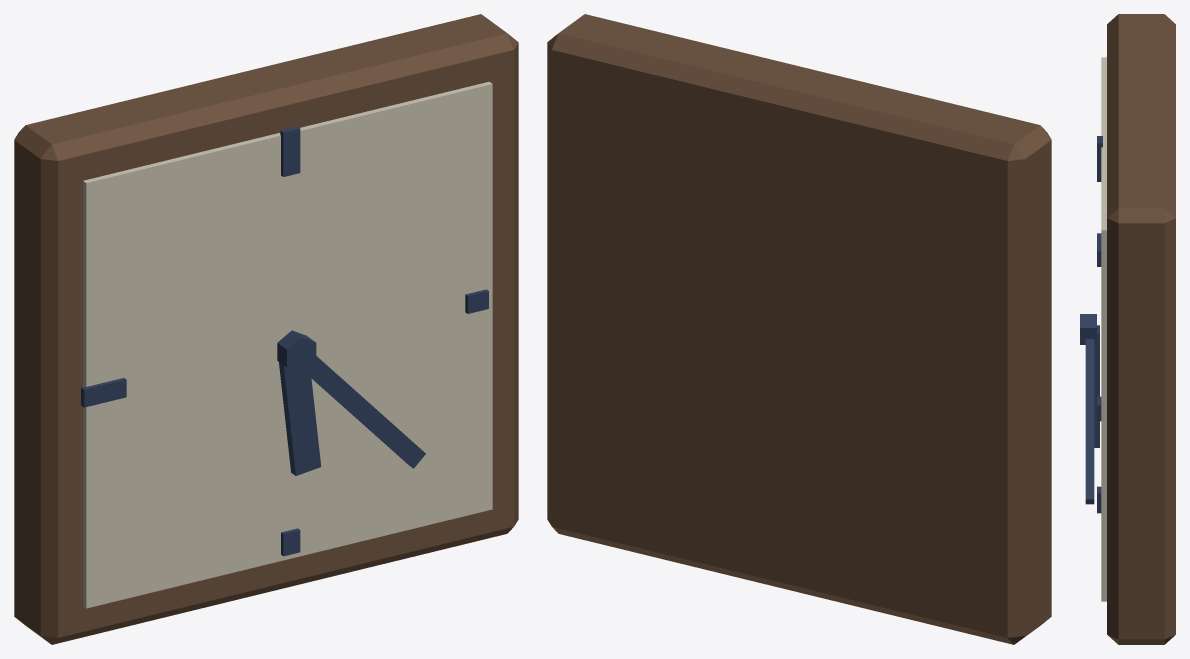
File: wall-clock-01.glb
The picture shows the model from 3 angles, left to right: view 1: azimuth 30°, elevation 25°; view 2: azimuth 150°, elevation 25°; view 3: azimuth 270°, elevation 25°; orthographic projection. The views are drawn at different scales.
Visible parts, largest first — view 1: wall_clock_01; view 2: wall_clock_01; view 3: wall_clock_01.
Part boxes in pixels (x1,y1,x2,y2): wall_clock_01: (14, 14, 518, 644); wall_clock_01: (547, 14, 1051, 644); wall_clock_01: (1080, 14, 1175, 644).
Bounding box in the file's own units: 0.3383 × 0.3383 × 0.0673.
